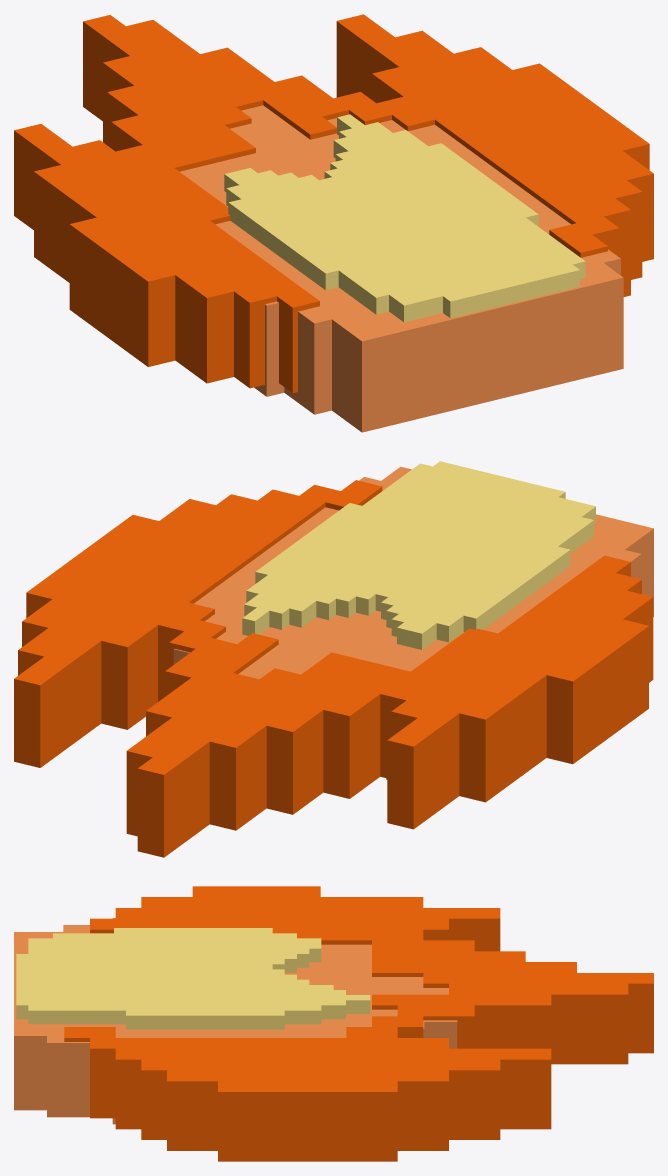
File: fuego.glb
3 renders of one model, top to bottom at view 1: azimuth 30°, elevation 25°; view 2: azimuth 150°, elevation 25°; view 3: azimuth 270°, elevation 25°, orthographic. The views are drawn at different scales.
Visible parts, largest first — view 1: path86410, path90876, path94616; view 2: path86410, path94616, path90876; view 3: path86410, path94616, path90876.
Boxes of the visible parts, x1,y1,x2,y2 form: path86410: [14, 14, 653, 392]; path90876: [180, 105, 623, 432]; path94616: [224, 114, 585, 322]; path86410: [14, 480, 653, 857]; path94616: [242, 461, 595, 649]; path90876: [173, 466, 653, 779]; path86410: [64, 886, 653, 1161]; path94616: [16, 928, 370, 1029]; path90876: [14, 918, 457, 1124].
Size of the model in its own units: 0.2588 by 0.0517 by 0.34.
